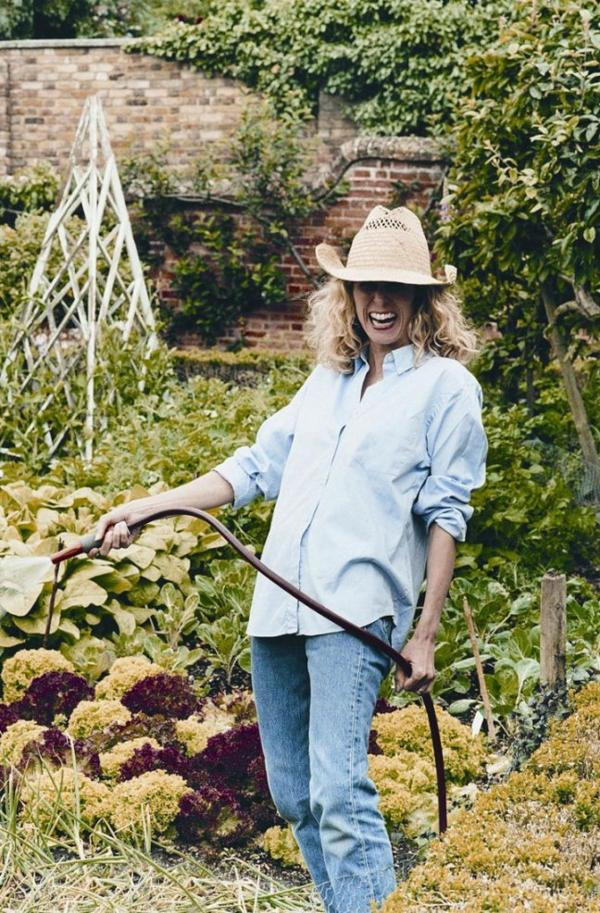person: (94, 202, 489, 909)
